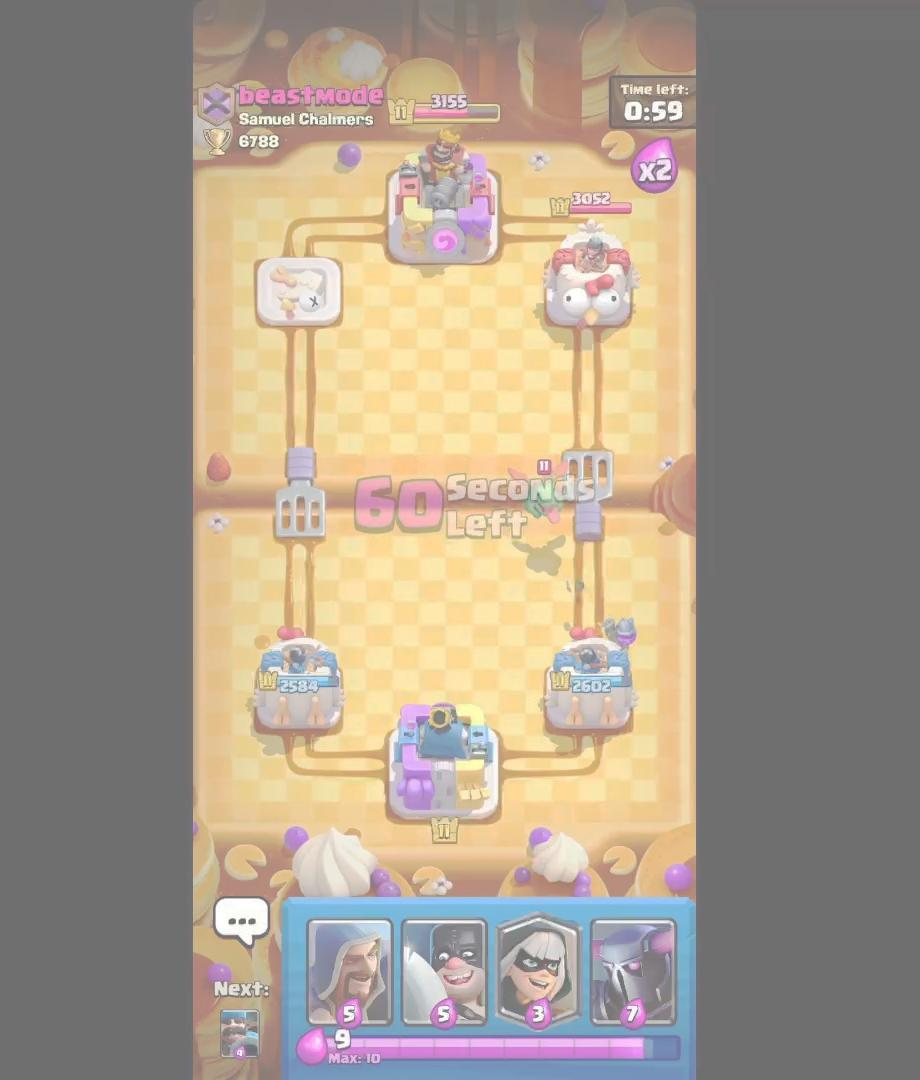Baby Dragon: (516, 457, 579, 525)
